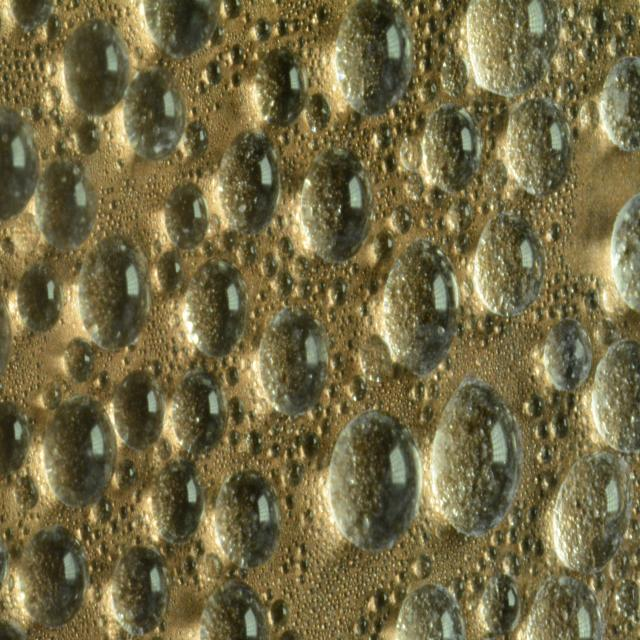dr: (431, 378, 522, 538), (328, 406, 423, 554), (551, 448, 632, 576), (384, 237, 458, 375), (465, 0, 563, 102), (333, 0, 418, 116), (43, 394, 120, 512), (77, 232, 152, 352), (300, 148, 374, 263), (473, 212, 547, 321), (260, 304, 329, 420), (214, 466, 282, 572), (19, 526, 88, 630), (508, 96, 574, 198), (218, 128, 281, 233), (64, 17, 130, 115), (184, 256, 247, 358), (34, 156, 101, 248), (517, 573, 607, 640), (123, 65, 184, 162), (110, 542, 171, 634), (593, 337, 640, 454), (172, 369, 233, 455), (424, 103, 481, 195), (197, 574, 271, 640), (152, 457, 206, 546), (141, 0, 222, 57), (112, 366, 166, 451), (253, 45, 308, 128), (1, 105, 40, 222), (394, 581, 466, 640), (600, 52, 640, 154), (610, 188, 640, 314), (544, 319, 594, 394), (162, 179, 210, 251), (18, 263, 64, 334), (0, 398, 30, 481), (481, 573, 521, 631), (358, 334, 391, 384), (64, 334, 96, 384), (156, 246, 186, 298), (72, 116, 102, 158), (447, 195, 474, 237), (183, 120, 210, 161), (615, 578, 640, 620), (308, 90, 331, 130), (578, 98, 600, 135), (235, 237, 259, 270), (327, 274, 350, 308), (116, 455, 138, 490), (412, 549, 433, 582), (373, 121, 395, 152), (550, 408, 570, 442), (392, 205, 413, 236), (269, 597, 290, 627), (41, 14, 63, 42), (204, 57, 224, 87), (248, 430, 268, 460), (590, 5, 608, 38), (261, 247, 278, 278), (302, 428, 319, 458), (256, 17, 271, 44), (278, 236, 294, 261), (230, 42, 246, 66)
